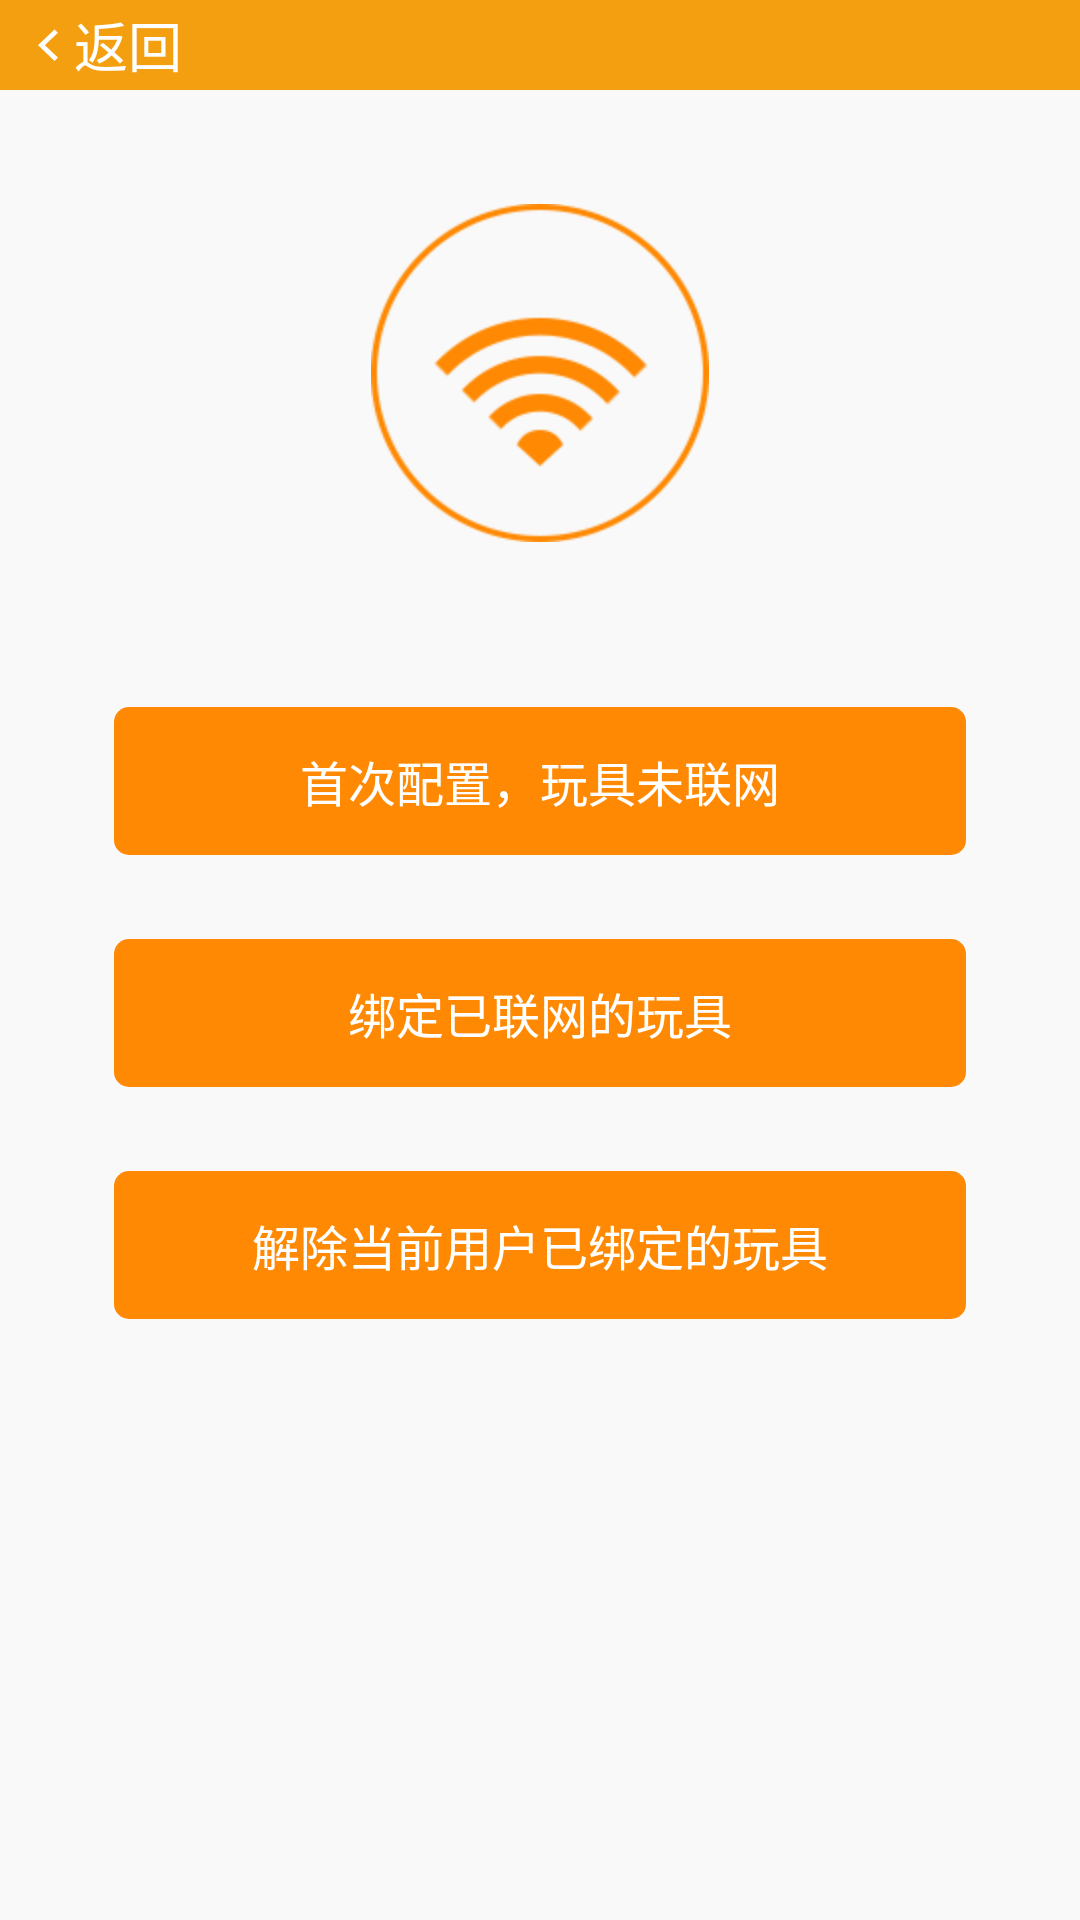

Screen size 1080w x 1920h. Icon name, then its center in pixels as (x=x, y=y):
wifi: (x=540, y=373)
